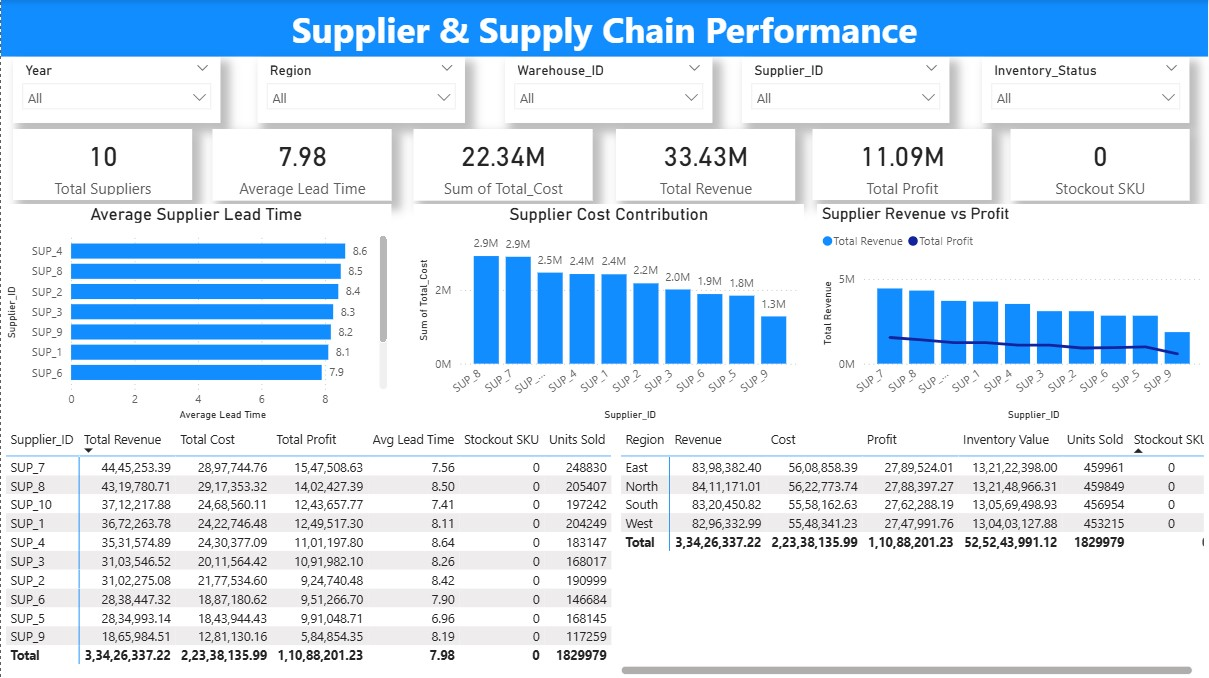

This screenshot's page, from the dashboard's own definition file:
{"tool":"powerbi","page":{"name":"Supplier & Supply Chain","canvas":[1280,720],"ordinal":2},"visuals":[{"type":"textbox","box":[0,0,1280,60],"z":0},{"type":"slicer","fields":{"Values":["DateTable.Year"]},"box":[12,60,220,70],"z":1000},{"type":"slicer","fields":{"Values":["InventoryData.Region"]},"box":[272,60,220,70],"z":2000},{"type":"slicer","fields":{"Values":["InventoryData.Warehouse_ID"]},"box":[534,60,220,70],"z":3000},{"type":"slicer","fields":{"Values":["InventoryData.Supplier_ID"]},"box":[786,60,220,70],"z":4000},{"type":"slicer","fields":{"Values":["InventoryData.Inventory_Status"]},"box":[1040,60,220,70],"z":5000},{"type":"card","fields":{"Values":["DateTable.Total Suppliers"]},"box":[12,136,190,75],"z":6000},{"type":"card","fields":{"Values":["InventoryData.Average Lead Time"]},"box":[224,136,190,76],"z":7000},{"type":"card","fields":{"Values":["Sum(InventoryData.Total_Cost)"]},"box":[438,136,190,76],"z":8000},{"type":"card","fields":{"Values":["InventoryData.Total Revenue"]},"box":[652,136,190,76],"z":9000},{"type":"card","fields":{"Values":["InventoryData.Total Profit"]},"box":[860,136,190,75],"z":10000},{"type":"card","fields":{"Values":["InventoryData.Stockout SKU"]},"box":[1070,136,190,76],"z":11000},{"type":"clusteredBarChart","title":"Average Supplier Lead Time","fields":{"Category":["InventoryData.Supplier_ID"],"Y":["InventoryData.Average Lead Time"]},"box":[0,216,414,234],"z":12000},{"type":"clusteredColumnChart","title":"Supplier Cost Contribution","fields":{"Category":["InventoryData.Supplier_ID"],"Y":["Sum(InventoryData.Total_Cost)"]},"box":[438,216,414,234],"z":13000},{"type":"lineClusteredColumnComboChart","title":"Supplier Revenue vs Profit","fields":{"Category":["InventoryData.Supplier_ID"],"Y":["InventoryData.Total Revenue"],"Y2":["InventoryData.Total Profit"]},"box":[866,216,414,234],"z":14000},{"type":"pivotTable","fields":{"Rows":["InventoryData.Supplier_ID"],"Values":["InventoryData.Total Revenue","InventoryData.Total Cost","InventoryData.Total Profit","InventoryData.Average Lead Time","InventoryData.Stockout SKU","InventoryData.Total Units Sold"]},"box":[0,450,652,270],"z":15000},{"type":"pivotTable","fields":{"Rows":["InventoryData.Region"],"Values":["InventoryData.Total Revenue","InventoryData.Total Cost","InventoryData.Total Profit","InventoryData.Total Inventory Value","InventoryData.Total Units Sold","InventoryData.Stockout SKU"]},"box":[652,450,628,270],"z":16000}]}

Visuals, with their boxes in screenshot pixels (x1, y1, x2, y2), scaled from the page's 1280x720 canvas onto the 1209x678 screenshot:
textbox: crop(0, 0, 1208, 56)
slicer - DateTable.Year: crop(11, 56, 219, 122)
slicer - InventoryData.Region: crop(257, 56, 465, 122)
slicer - InventoryData.Warehouse_ID: crop(504, 56, 712, 122)
slicer - InventoryData.Supplier_ID: crop(742, 56, 950, 122)
slicer - InventoryData.Inventory_Status: crop(982, 56, 1190, 122)
card - DateTable.Total Suppliers: crop(11, 128, 191, 199)
card - InventoryData.Average Lead Time: crop(212, 128, 391, 200)
card - Sum(InventoryData.Total_Cost): crop(414, 128, 593, 200)
card - InventoryData.Total Revenue: crop(616, 128, 795, 200)
card - InventoryData.Total Profit: crop(812, 128, 992, 199)
card - InventoryData.Stockout SKU: crop(1011, 128, 1190, 200)
"Average Supplier Lead Time" clusteredBarChart: crop(0, 203, 391, 424)
"Supplier Cost Contribution" clusteredColumnChart: crop(414, 203, 805, 424)
"Supplier Revenue vs Profit" lineClusteredColumnComboChart: crop(818, 203, 1208, 424)
pivotTable - InventoryData.Supplier_ID x InventoryData.Total Revenue: crop(0, 424, 616, 677)
pivotTable - InventoryData.Region x InventoryData.Total Revenue: crop(616, 424, 1208, 677)
